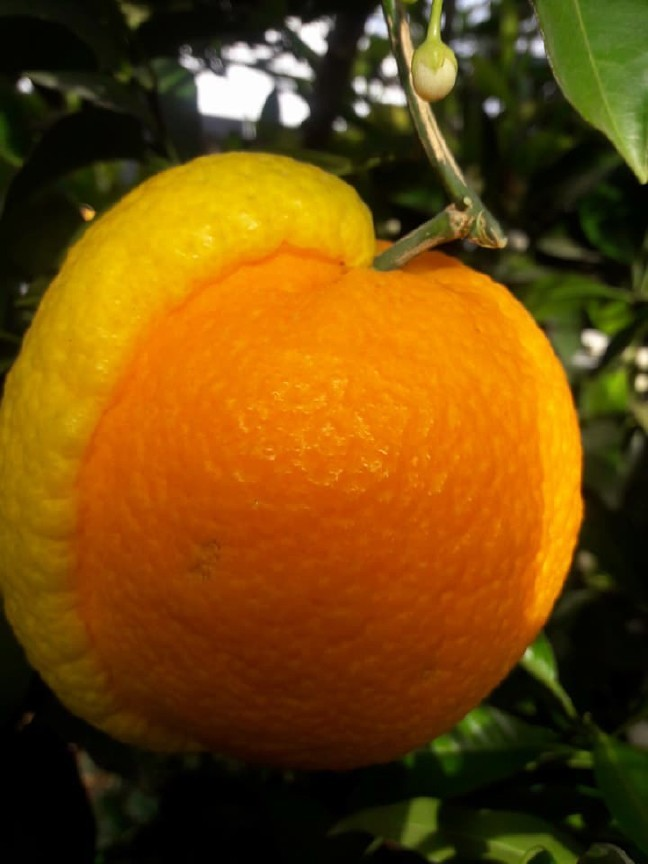orange: (48, 234, 593, 789)
